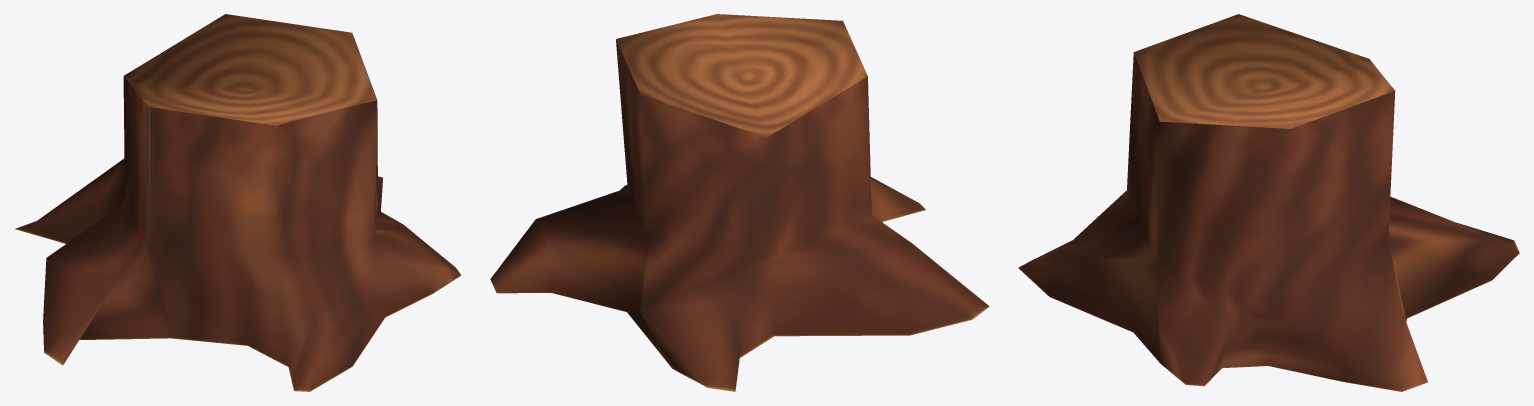
The model's file is oak-stump-003-44.glb.
The picture shows the model from 3 angles, left to right: view 1: azimuth 30°, elevation 25°; view 2: azimuth 150°, elevation 25°; view 3: azimuth 270°, elevation 25°; orthographic projection. The views are drawn at different scales.
Visible parts, largest first — view 1: oak_stump.003_44; view 2: oak_stump.003_44; view 3: oak_stump.003_44.
Part boxes in pixels (x1,y1,x2,y2): oak_stump.003_44: (15, 14, 461, 391); oak_stump.003_44: (490, 14, 989, 391); oak_stump.003_44: (1018, 14, 1519, 391).
Bounding box in the file's own units: 13.01 × 6.82 × 13.52.
1 material, 1 textured.
